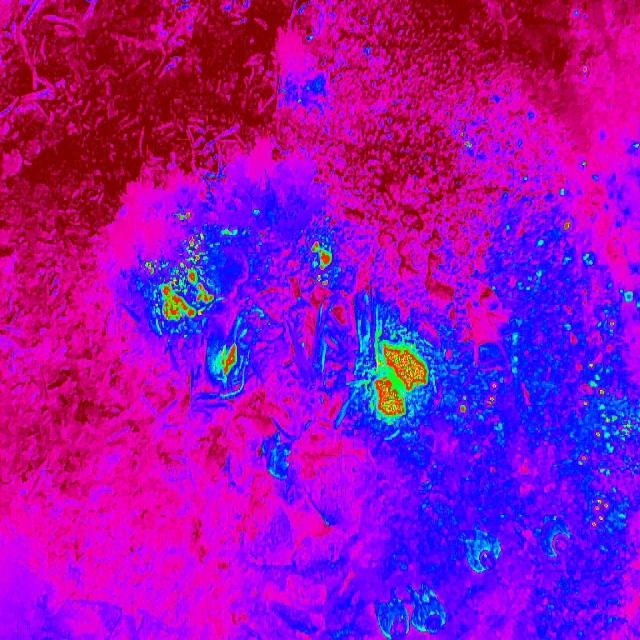fire: (550, 216, 640, 536), (142, 231, 220, 333), (359, 339, 432, 428), (456, 371, 503, 421), (306, 238, 340, 283), (211, 338, 242, 382), (169, 206, 194, 226), (457, 128, 476, 152)
